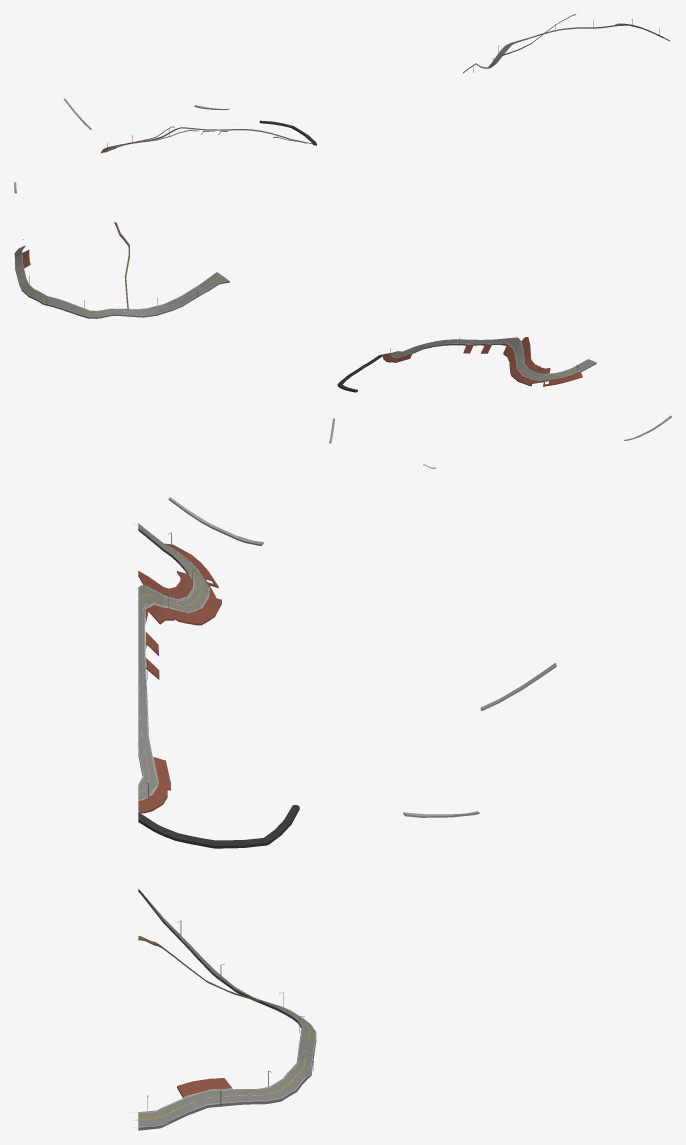
The picture shows the model from 3 angles, top to bottom: view 1: azimuth 30°, elevation 25°; view 2: azimuth 150°, elevation 25°; view 3: azimuth 270°, elevation 25°; orthographic projection. The views are drawn at different scales.
Bounding box in the file's own units: 623 × 75.66 × 178.
